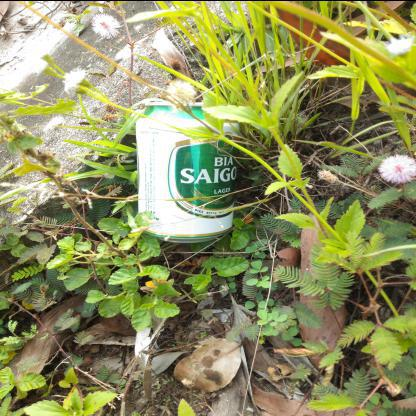metal: (134, 100, 243, 244)
